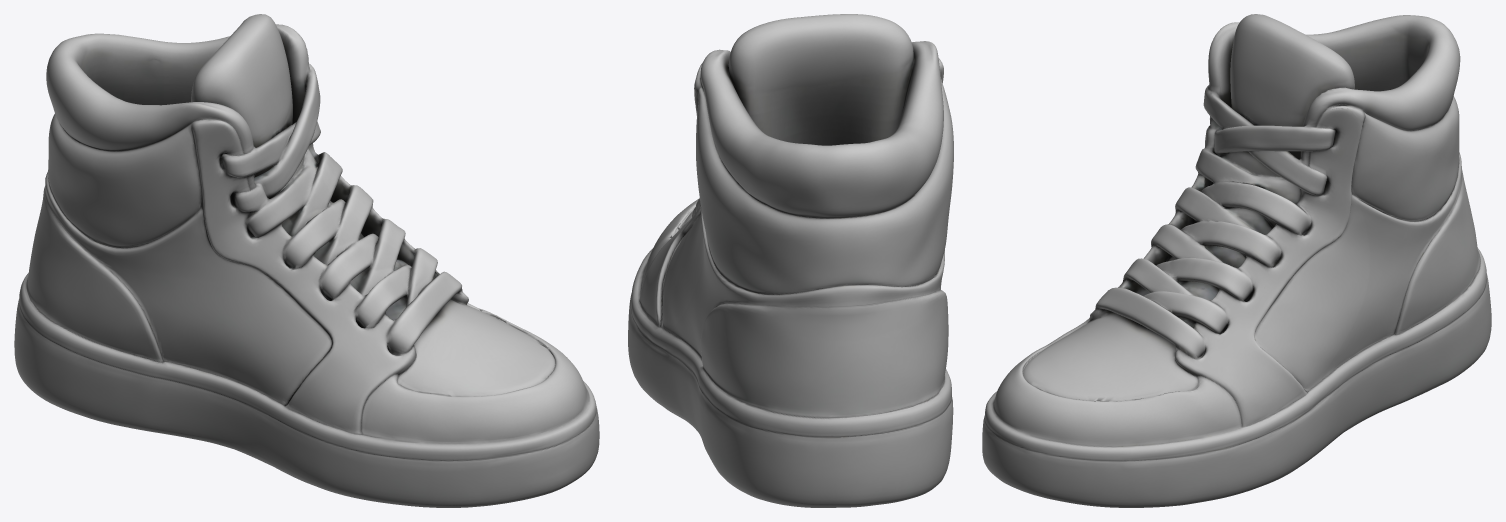
File: sneaker.fbx
3 renders of one model, left to right at view 1: azimuth 30°, elevation 25°; view 2: azimuth 150°, elevation 25°; view 3: azimuth 270°, elevation 25°, orthographic. The views are drawn at different scales.
Parts seen in each view (by area): view 1: tripo_node_c9d2e6e2; view 2: tripo_node_c9d2e6e2; view 3: tripo_node_c9d2e6e2.
Boxes of the visible parts, x1,y1,x2,y2 form: tripo_node_c9d2e6e2: (14, 14, 599, 507); tripo_node_c9d2e6e2: (628, 14, 953, 507); tripo_node_c9d2e6e2: (982, 14, 1491, 507).
Size of the model in its own units: 85.01 by 79.5 by 98.01.
1 material, 1 textured.
